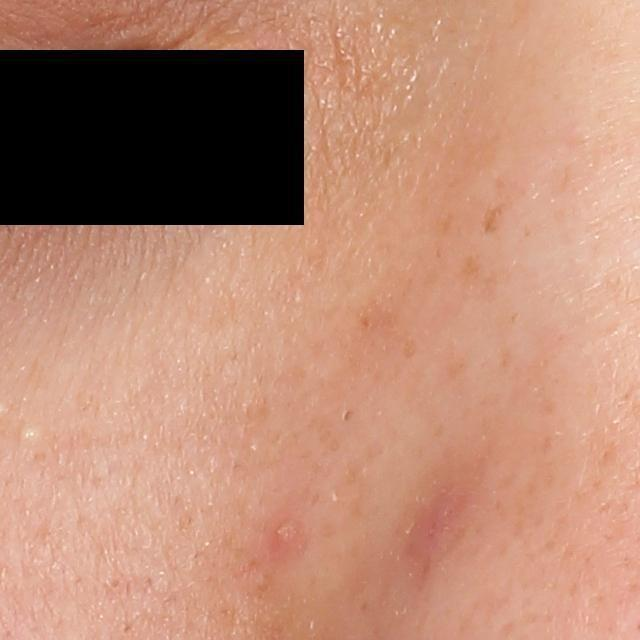comedo: (13, 419, 40, 447)
melasma: (477, 167, 530, 242), (458, 252, 504, 302)
papule: (258, 508, 312, 557)
